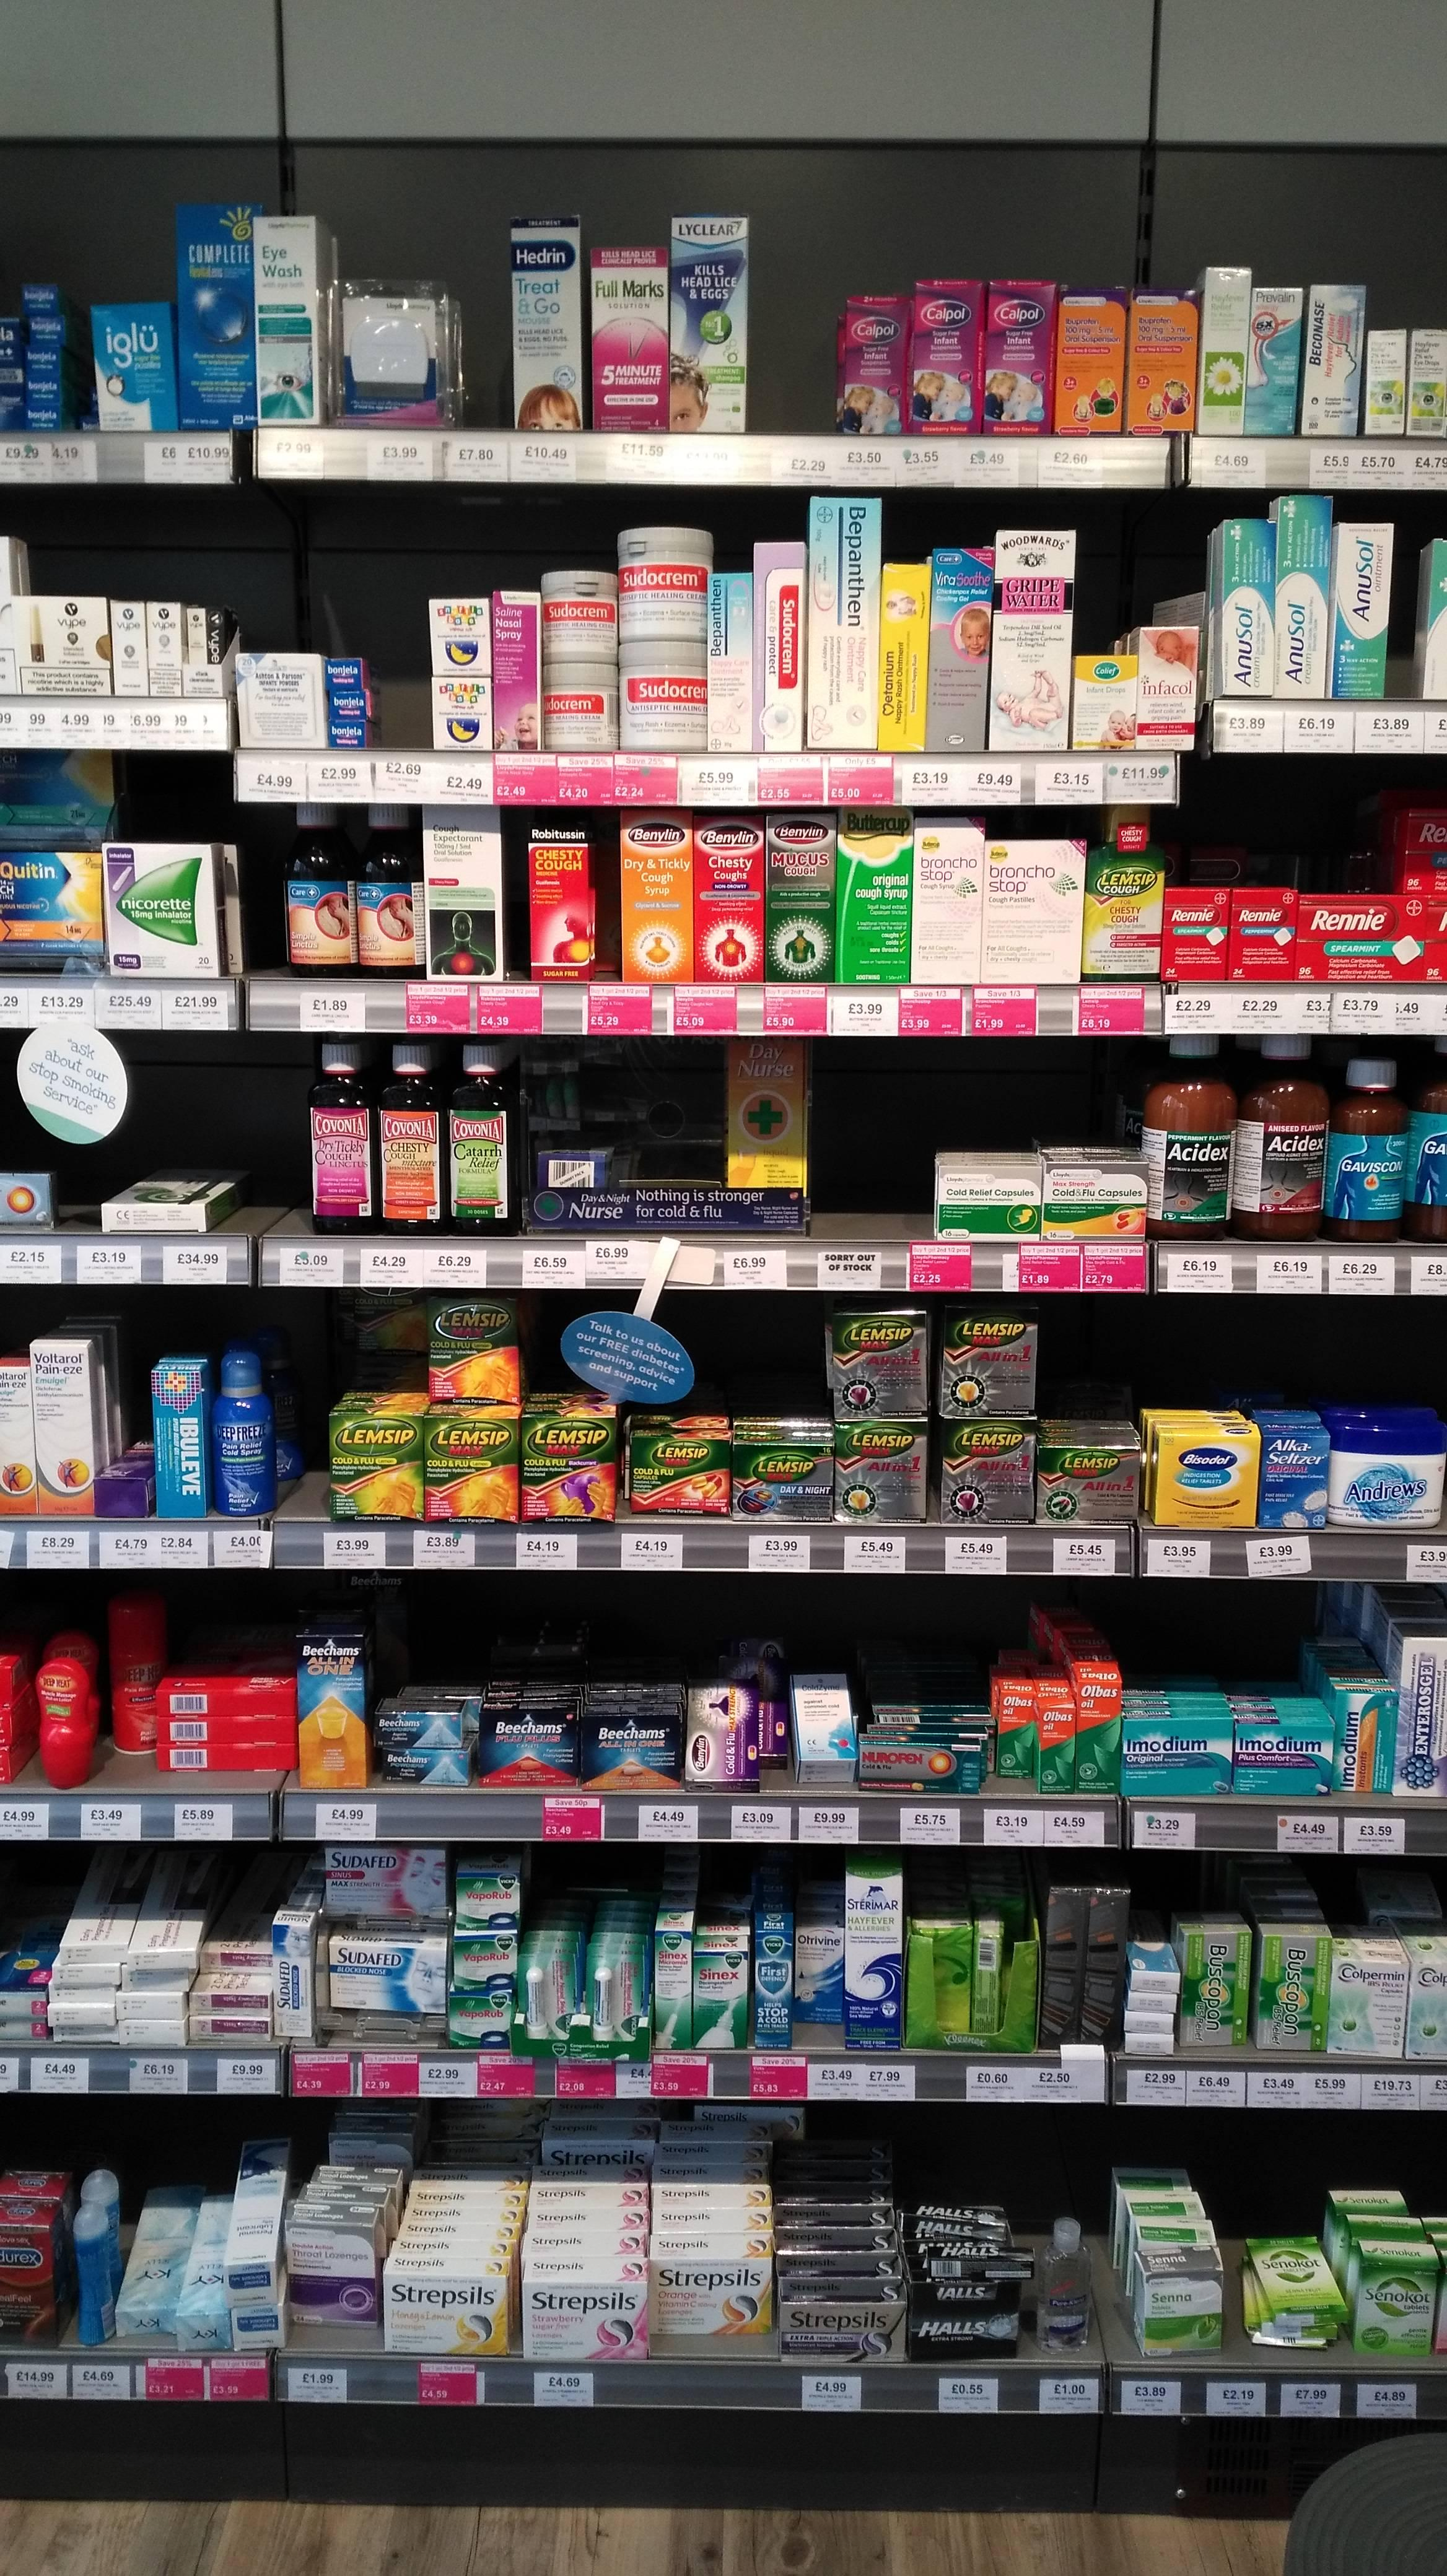empty: (815, 1040, 927, 1242), (739, 255, 831, 433), (230, 1067, 310, 1237), (269, 1353, 334, 1525), (368, 586, 430, 752)
